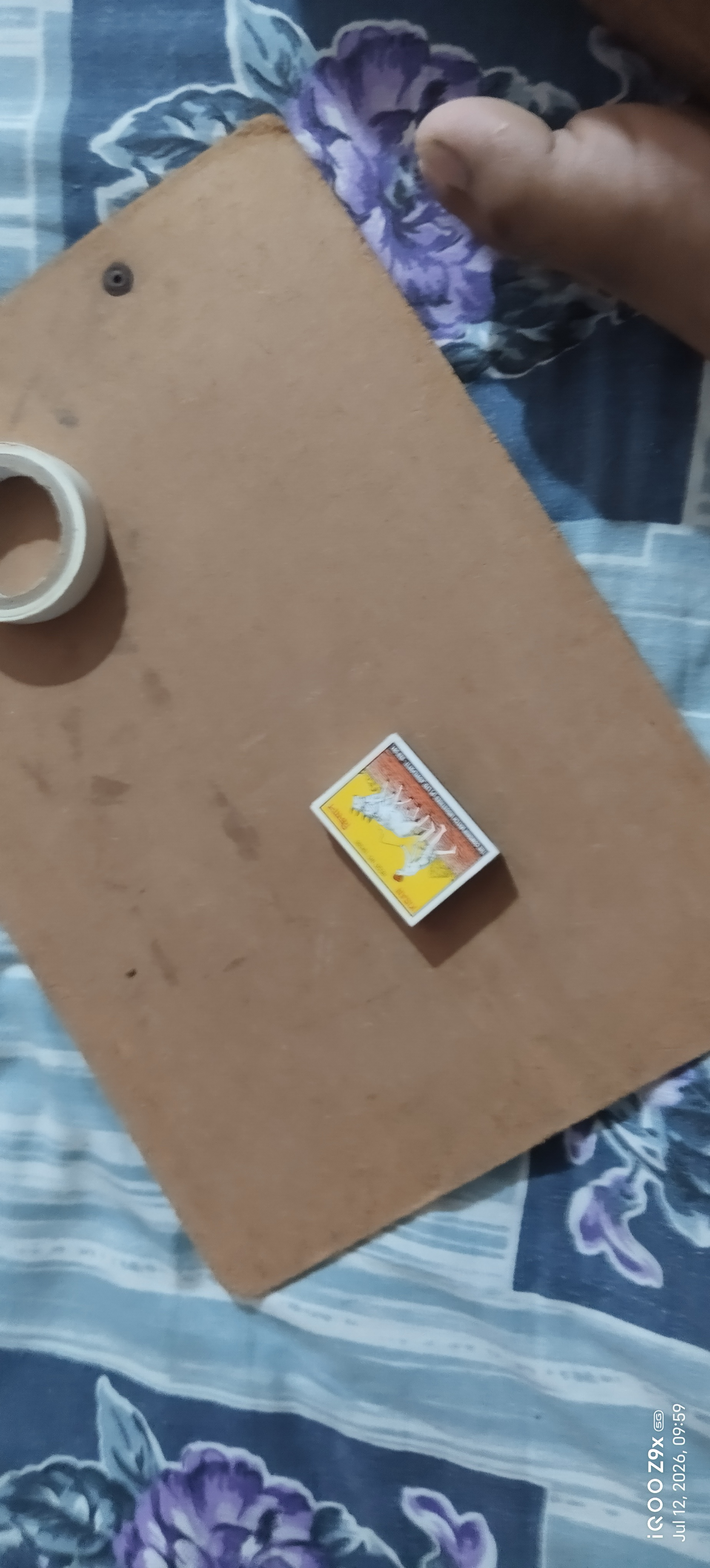matchbox: (300, 728, 510, 941)
tape_roll: (0, 435, 117, 634)
